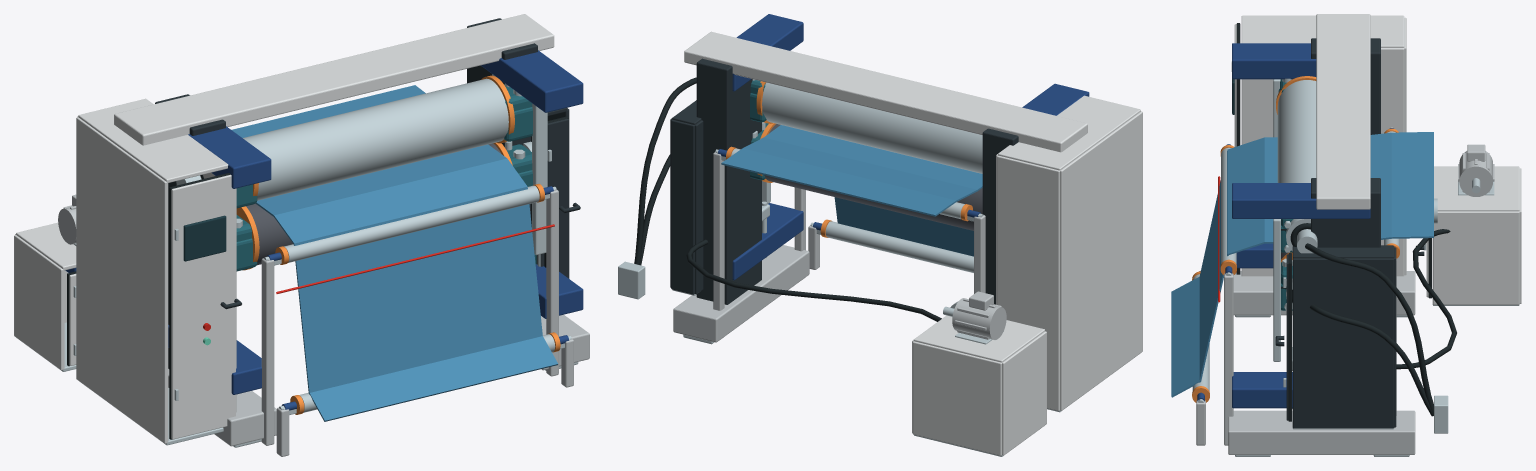
File: calender.glb
3 renders of one model, left to right at view 1: azimuth 30°, elevation 25°; view 2: azimuth 150°, elevation 25°; view 3: azimuth 270°, elevation 25°, orthographic. The views are drawn at different scales.
Visible parts, largest first — view 1: fabric_web, f3_case_wall, f3_frame.018, 镀铬加热钢辊_drum, f3_door, f3_case_wall.004, f3_case_top, 全幅导布辊_drum, f3_frame.009, f3_frame.003, f3_frame.012, f3_door.001 (+18 smaller); view 2: f3_case_wall, fabric_web, f3_frame.018, f3_case_rear, f3_frame.007, 镀铬加热钢辊_drum, f3_case_rear.002, f3_frame.006, f3_case_wall.004, f3_case_rear.001, f3_case_top, f3_case_top.002 (+15 smaller); view 3: f3_case_wall.003, fabric_web, f3_frame.018, f3_case_wall.005, f3_frame.006, f3_case_wall.001, 镀铬加热钢辊_drum, f3_frame.009, f3_case_top, f3_frame.003, f3_case_top.002, f3_frame.007 (+21 smaller).
Part boxes in pixels (x1,y1,x2,y2): fabric_web: (232, 85, 557, 421); f3_case_wall: (76, 117, 168, 443); f3_frame.018: (114, 14, 554, 145); 镀铬加热钢辊_drum: (243, 78, 508, 200); f3_door: (171, 174, 235, 439); f3_case_wall.004: (14, 235, 64, 370); f3_case_top: (78, 98, 228, 182); 全幅导布辊_drum: (284, 185, 539, 262); f3_frame.009: (481, 50, 583, 112); f3_frame.003: (188, 126, 271, 188); f3_frame.012: (261, 258, 274, 445); f3_door.001: (547, 118, 568, 278); f3_case_wall: (1060, 111, 1142, 410); fabric_web: (721, 125, 982, 256); f3_frame.018: (684, 31, 1087, 152); f3_case_rear: (997, 155, 1059, 410); f3_frame.007: (696, 58, 761, 304); 镀铬加热钢辊_drum: (762, 82, 982, 173); f3_case_rear.002: (912, 341, 1001, 455); f3_frame.006: (673, 245, 809, 342); f3_case_wall.004: (1002, 331, 1046, 455); f3_case_rear.001: (671, 119, 694, 294); f3_case_top: (998, 95, 1140, 170); f3_case_top.002: (913, 315, 1044, 362); f3_case_wall.003: (1292, 258, 1394, 428); fabric_web: (1171, 132, 1433, 397); f3_frame.018: (1316, 14, 1370, 209); f3_case_wall.005: (1432, 211, 1519, 304); f3_frame.006: (1228, 410, 1415, 454); f3_case_wall.001: (1241, 48, 1404, 276); 镀铬加热钢辊_drum: (1277, 80, 1316, 182); f3_frame.009: (1232, 183, 1370, 218); f3_case_top: (1241, 15, 1404, 47); f3_frame.003: (1232, 43, 1316, 79); f3_case_top.002: (1434, 166, 1519, 211); f3_frame.007: (1311, 178, 1380, 247).
Bounding box in the file's own units: 4.05 × 2.46 × 2.91.
